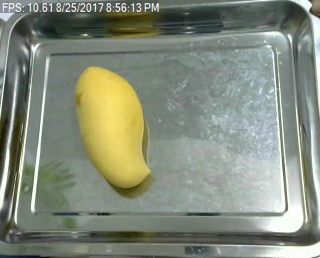Mango: (73, 63, 155, 190)
